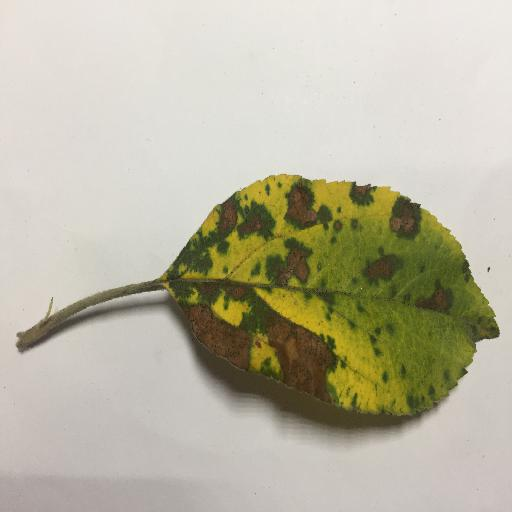Brown_Spot: (192, 306, 341, 401), (216, 207, 275, 237), (284, 189, 326, 230), (264, 242, 308, 281), (195, 282, 254, 298), (390, 199, 416, 234), (364, 255, 396, 281), (345, 180, 376, 206), (427, 289, 450, 316)
